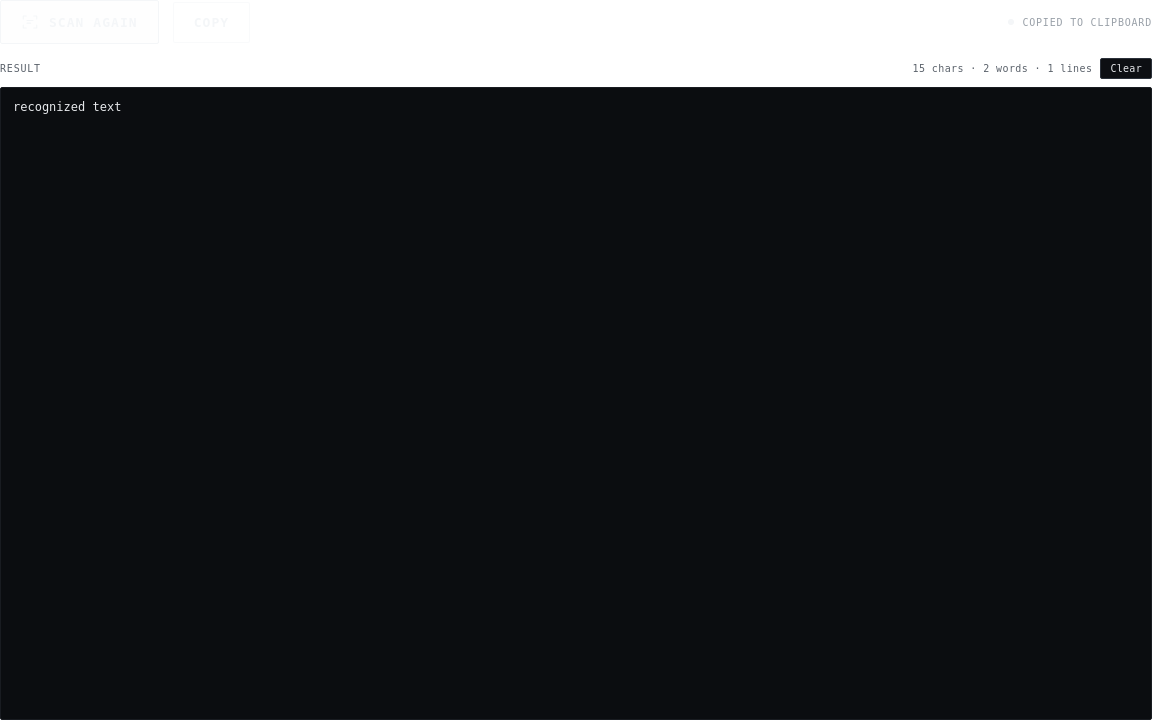
OcrPanel clearing › discards the scan once confirmed
The image size is (1152, 720).
Click the button "Clear": (1126, 68) 1100,58 -> 1151,79
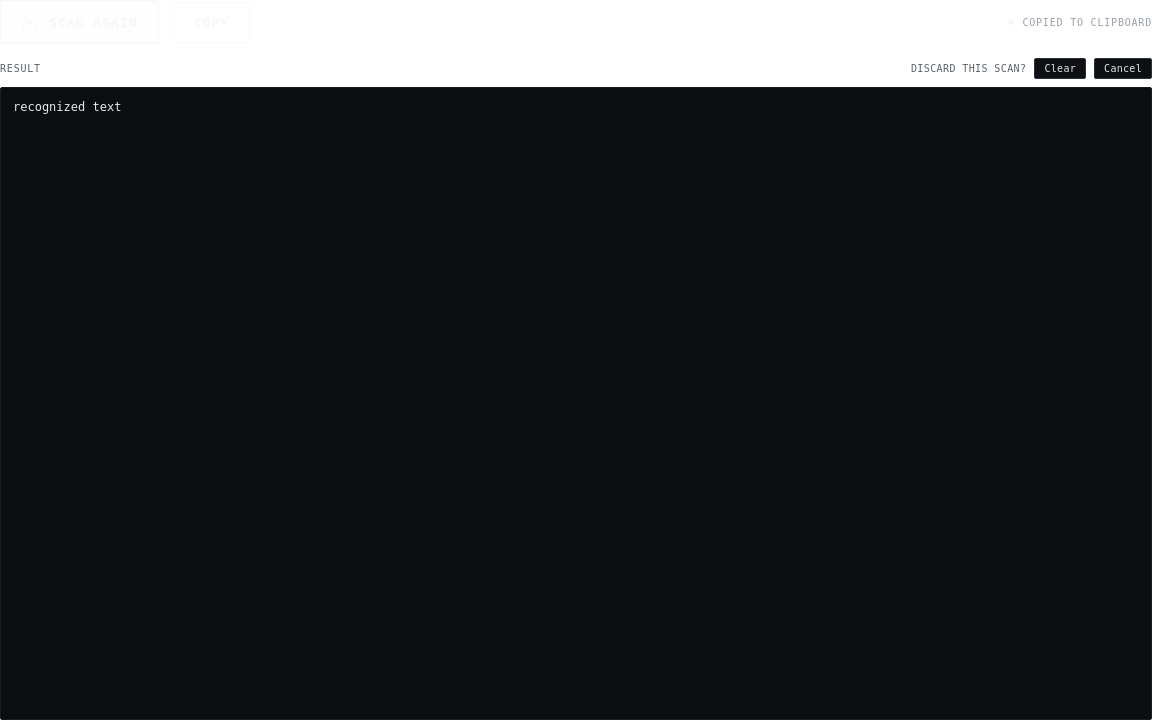
Click the button "Clear": (1060, 68) 1034,58 -> 1086,79
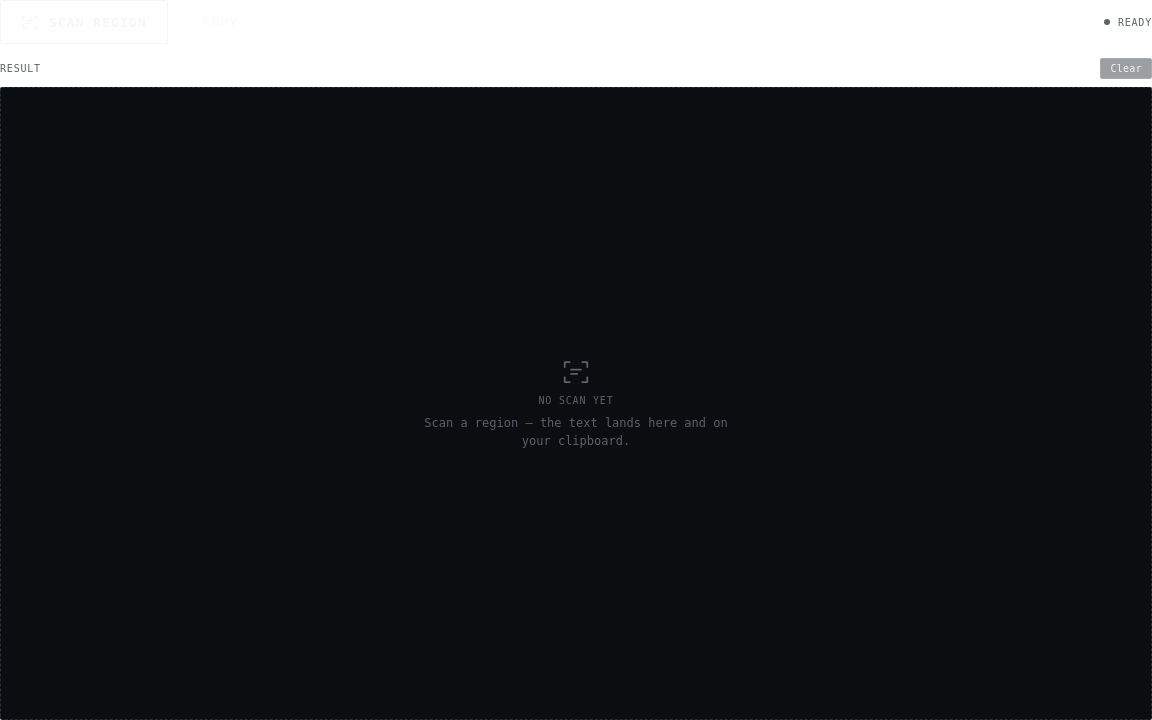
Expected: the field showing "recognized text" is not shown
Expected: the text "NO SCAN YET" is shown, 538,395 -> 614,406
